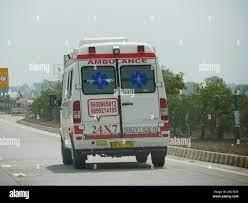AMBULANCE: (61, 41, 165, 161)
